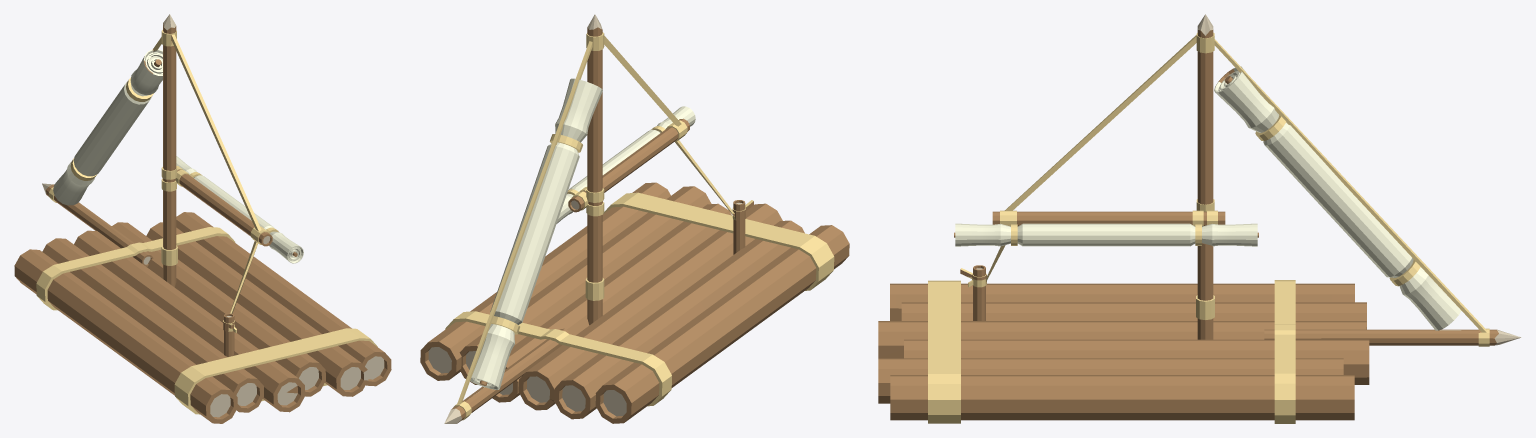
The model's file is TratwaŻagiel .fbx.
3 views of the same model, side by side, from view 1: azimuth 30°, elevation 25°; view 2: azimuth 150°, elevation 25°; view 3: azimuth 270°, elevation 25° (orthographic). The views are drawn at different scales.
Parts seen in each view (by area): view 1: Tratwa_full; view 2: Tratwa_full; view 3: Tratwa_full.
Boxes of the visible parts, box(x1,y1,x2,y2) form: Tratwa_full: box(14, 14, 391, 423); Tratwa_full: box(420, 14, 849, 423); Tratwa_full: box(878, 14, 1521, 423).
Bounding box in the file's own units: 115 × 172 × 277.
